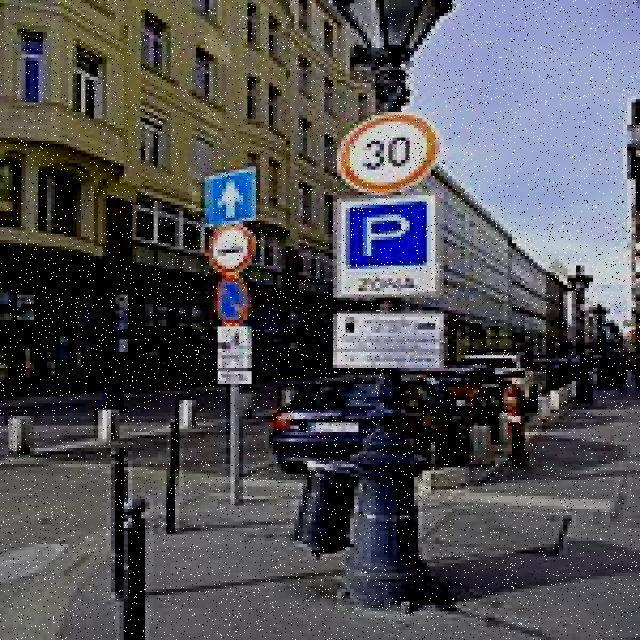Traffic sign: (328, 104, 457, 382), (192, 162, 272, 389)
